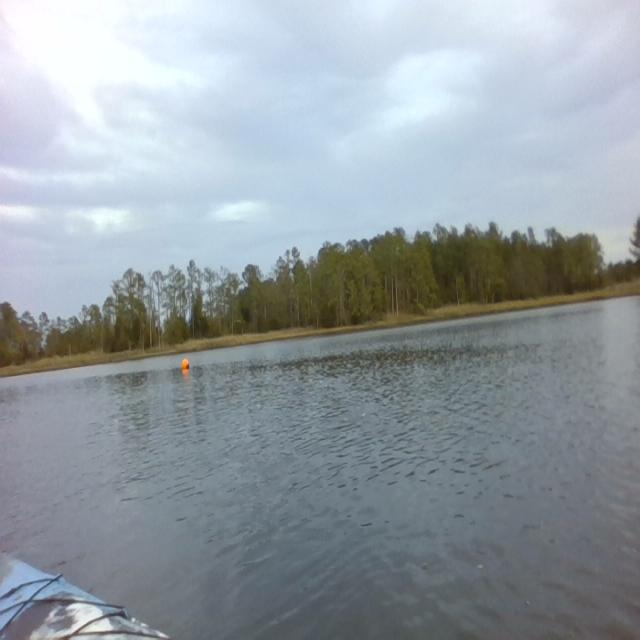Buoy: (180, 357, 191, 372)
